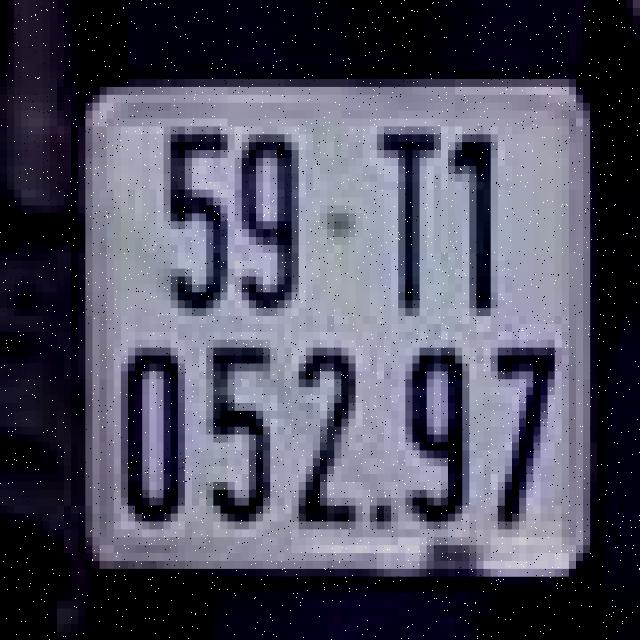0: (110, 336, 188, 525)
1: (444, 130, 502, 320)
2: (284, 336, 362, 541)
5: (195, 328, 281, 533), (156, 126, 234, 324)
7: (487, 340, 565, 529)
9: (235, 118, 320, 324), (395, 340, 480, 521)
T: (373, 118, 438, 324)
